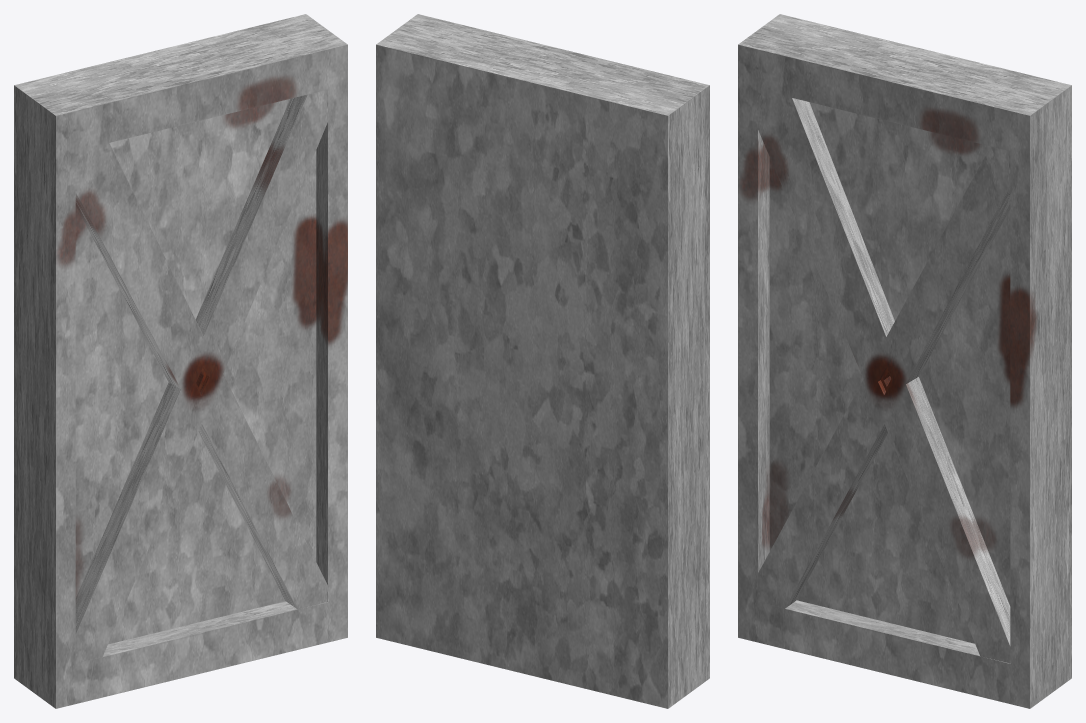
The model's file is Door.fbx.
3 views of the same model, side by side, from view 1: azimuth 30°, elevation 25°; view 2: azimuth 150°, elevation 25°; view 3: azimuth 330°, elevation 25° (orthographic).
Parts seen in each view (by area): view 1: Cube; view 2: Cube; view 3: Cube.
Part boxes in pixels (box(x1,y1,x2,y2)): Cube: box(14, 14, 347, 708); Cube: box(376, 14, 709, 708); Cube: box(738, 14, 1071, 708).
Bounding box in the file's own units: 806 × 1565 × 200.
